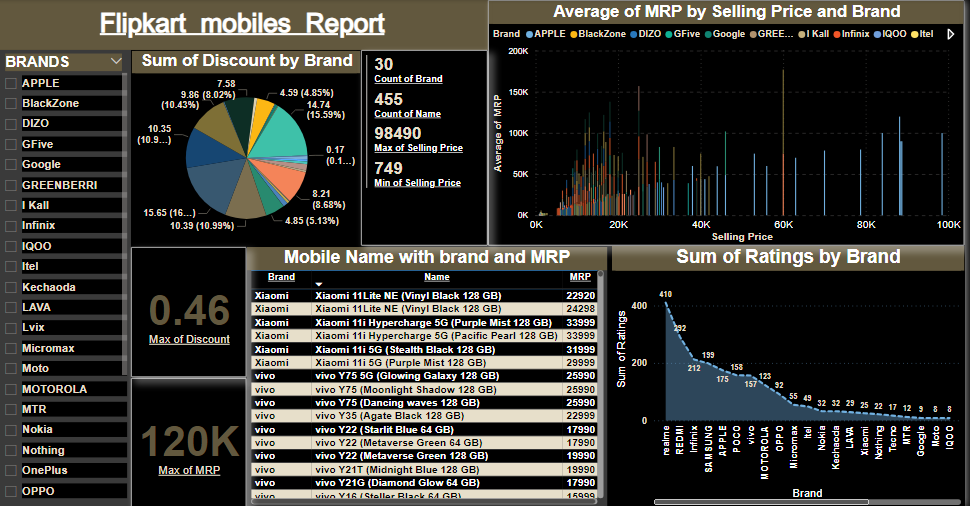

The dashboard page shown, as its layout file describes it:
{"tool":"powerbi","page":{"name":"Page 1","canvas":[1377,722],"ordinal":0},"visuals":[{"type":"slicer","fields":{"Values":["flipkart_mobiles.Brand"]},"box":[0,71,192.3,649.3],"z":0},{"type":"tableEx","title":"Mobile Name with brand and MRP","fields":{"Values":["flipkart_mobiles.Brand","flipkart_mobiles.Name","flipkart_mobiles.MRP"]},"box":[356.5,350.5,511.8,371.2],"z":1000},{"type":"areaChart","fields":{"Category":["flipkart_mobiles.Brand"],"Y":["Sum(flipkart_mobiles.Ratings)"]},"box":[875.6,349.1,501.4,372.7],"z":2000},{"type":"pieChart","fields":{"Y":["Sum(flipkart_mobiles.Discount)"],"Series":["flipkart_mobiles.Brand"]},"box":[192.3,71,326.9,278.1],"z":3000},{"type":"textbox","box":[0,0,699.6,71],"z":4000},{"type":"columnChart","fields":{"Category":["flipkart_mobiles.Selling Price"],"Series":["flipkart_mobiles.Brand"],"Y":["Avg(flipkart_mobiles.MRP)"]},"box":[699.6,0,677.4,349.1],"z":5000},{"type":"card","fields":{"Values":["Max(flipkart_mobiles.MRP)"]},"box":[192.3,536.9,164.2,184.9],"z":6000},{"type":"card","fields":{"Values":["Max(flipkart_mobiles.Discount)"]},"box":[192.3,350.5,164.2,184.9],"z":7000},{"type":"multiRowCard","fields":{"Values":["flipkart_mobiles.Brand","flipkart_mobiles.Name","Max(flipkart_mobiles.Selling Price)","Min(flipkart_mobiles.Selling Price)1"]},"box":[519.1,71,180.4,278.1],"z":8000}]}

Visuals, with their boxes in screenshot pixels (x1, y1, x2, y2), scaled from the page's 1377x722 canvas onto the 970x506 screenshot:
slicer - flipkart_mobiles.Brand: [0, 50, 135, 505]
"Mobile Name with brand and MRP" tableEx: [251, 246, 612, 505]
areaChart - flipkart_mobiles.Brand x Sum(flipkart_mobiles.Ratings): [617, 245, 969, 505]
pieChart - Sum(flipkart_mobiles.Discount) x flipkart_mobiles.Brand: [135, 50, 366, 245]
textbox: [0, 0, 493, 50]
columnChart - flipkart_mobiles.Selling Price x flipkart_mobiles.Brand: [493, 0, 969, 245]
card - Max(flipkart_mobiles.MRP): [135, 376, 251, 505]
card - Max(flipkart_mobiles.Discount): [135, 246, 251, 375]
multiRowCard - flipkart_mobiles.Brand x flipkart_mobiles.Name: [366, 50, 493, 245]
